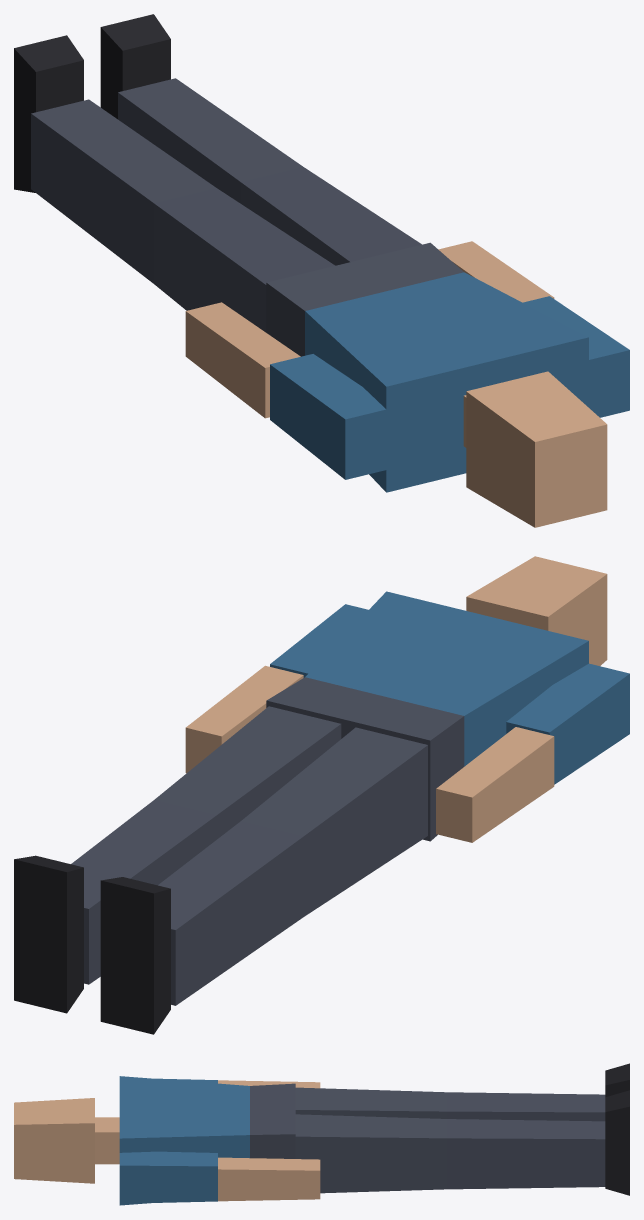
Rendered from person.obj.
The picture shows the model from 3 angles, top to bottom: view 1: azimuth 30°, elevation 25°; view 2: azimuth 150°, elevation 25°; view 3: azimuth 270°, elevation 25°; orthographic projection. The views are drawn at different scales.
Size of the model in its own units: 0.5994 by 0.28 by 1.75.
